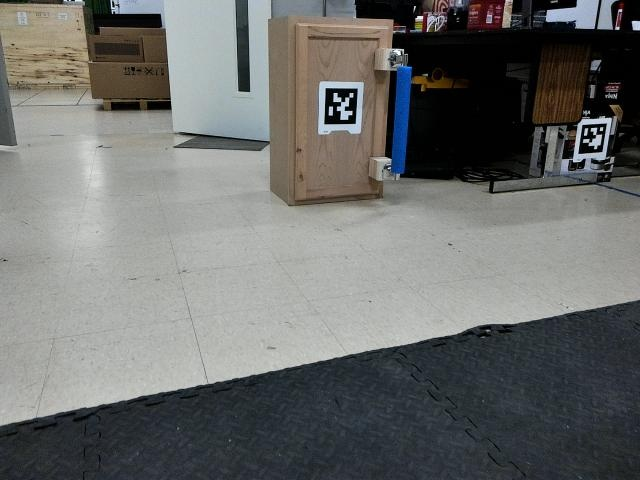noodle_handle: (382, 62, 417, 178)
